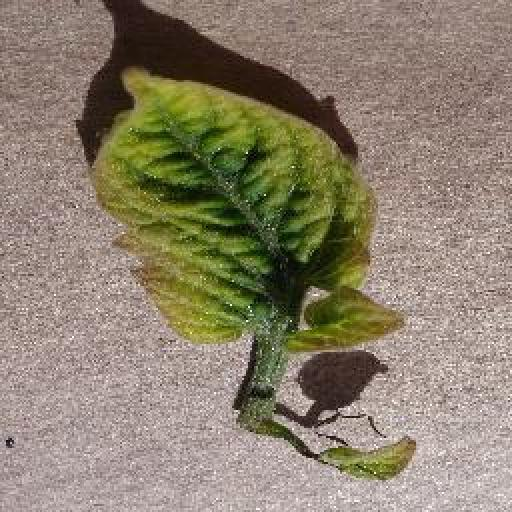Yellow Leaf Curl Virus: (91, 62, 409, 350)
